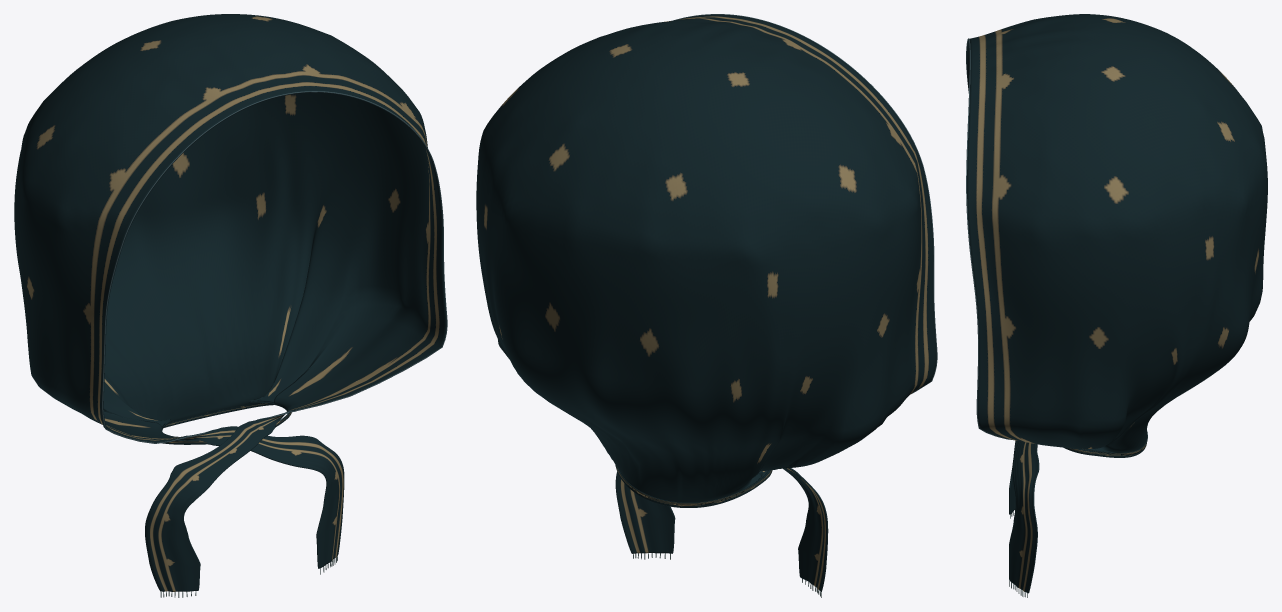
The model's file is Masculine-curly-top-buttonup-pashmina249-headgear.glb.
3 views of the same model, side by side, from view 1: azimuth 30°, elevation 25°; view 2: azimuth 150°, elevation 25°; view 3: azimuth 270°, elevation 25° (orthographic). The views are drawn at different scales.
Parts seen in each view (by area): view 1: 226 headgear / Headwear / continuous woven pashmina239, 226 headgear / Headwear / face edge239; view 2: 226 headgear / Headwear / continuous woven pashmina239, 226 headgear / Headwear / face edge239; view 3: 226 headgear / Headwear / continuous woven pashmina239, 226 headgear / Headwear / face edge239.
Part boxes in pixels (bbox=[...]): 226 headgear / Headwear / continuous woven pashmina239: bbox=[14, 14, 446, 591]; 226 headgear / Headwear / face edge239: bbox=[102, 91, 447, 443]; 226 headgear / Headwear / continuous woven pashmina239: bbox=[476, 14, 936, 591]; 226 headgear / Headwear / face edge239: bbox=[673, 14, 937, 393]; 226 headgear / Headwear / continuous woven pashmina239: bbox=[966, 14, 1267, 593]; 226 headgear / Headwear / face edge239: bbox=[966, 38, 1011, 439].
Bounding box in the file's own units: 1.08 × 1.45 × 0.762.
Materials: 3 (1 with a texture image).
